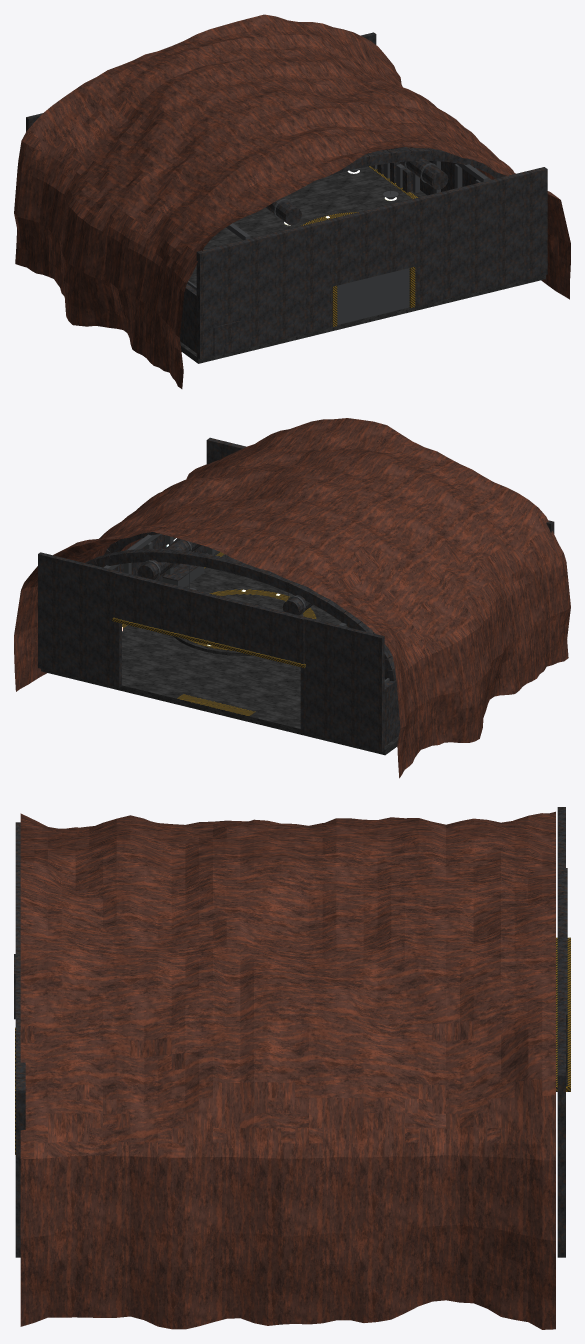
The model's file is vantor-relay.glb.
The picture shows the model from 3 angles, top to bottom: view 1: azimuth 30°, elevation 25°; view 2: azimuth 150°, elevation 25°; view 3: azimuth 270°, elevation 25°; orthographic projection. The views are drawn at different scales.
Visible parts, largest first — view 1: vantor_s0, vantor_s-1, vantor_s-2; view 2: vantor_s-2, vantor_s-1, vantor_s0; view 3: vantor_s-1, vantor_s-2, vantor_s0.
Boxes of the visible parts, bbox=[...] form: vantor_s0: bbox=[159, 138, 570, 388]; vantor_s-1: bbox=[72, 82, 513, 367]; vantor_s-2: bbox=[14, 14, 435, 324]; vantor_s-2: bbox=[14, 499, 479, 778]; vantor_s-1: bbox=[98, 446, 539, 754]; vantor_s0: bbox=[186, 418, 570, 673]; vantor_s-1: bbox=[103, 815, 336, 1329]; vantor_s-2: bbox=[336, 807, 570, 1329]; vantor_s0: bbox=[14, 813, 102, 1326].
Size of the model in its own units: 43.85 by 20.59 by 33.3.
Materials: 10 (4 with a texture image).
